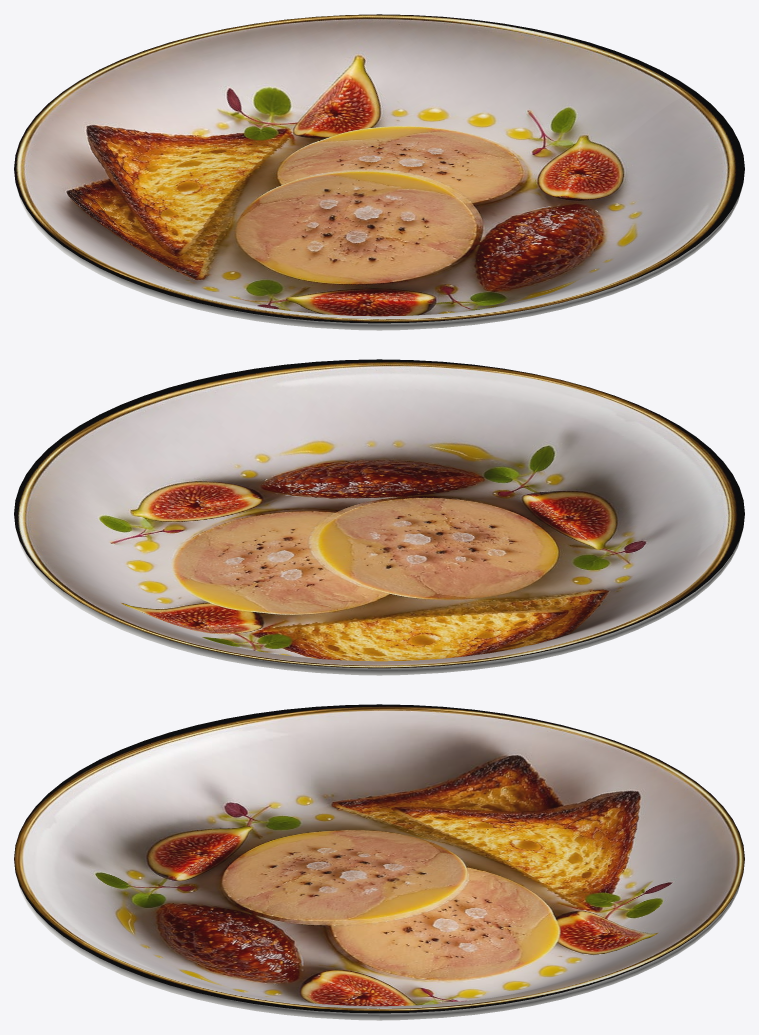
Rendered from foie-gras.glb.
3 views of the same model, one above another, from view 1: azimuth 30°, elevation 25°; view 2: azimuth 150°, elevation 25°; view 3: azimuth 270°, elevation 25° (orthographic).
Visible parts, largest first — view 1: dish; view 2: dish; view 3: dish.
Part boxes in pixels (left/top/right/bottom): dish: left=14, top=14, right=744, bottom=330; dish: left=14, top=359, right=744, bottom=675; dish: left=14, top=704, right=744, bottom=1020.
Bounding box in the file's own units: 0.26 × 0.025 × 0.26.
2 materials, 1 textured.
